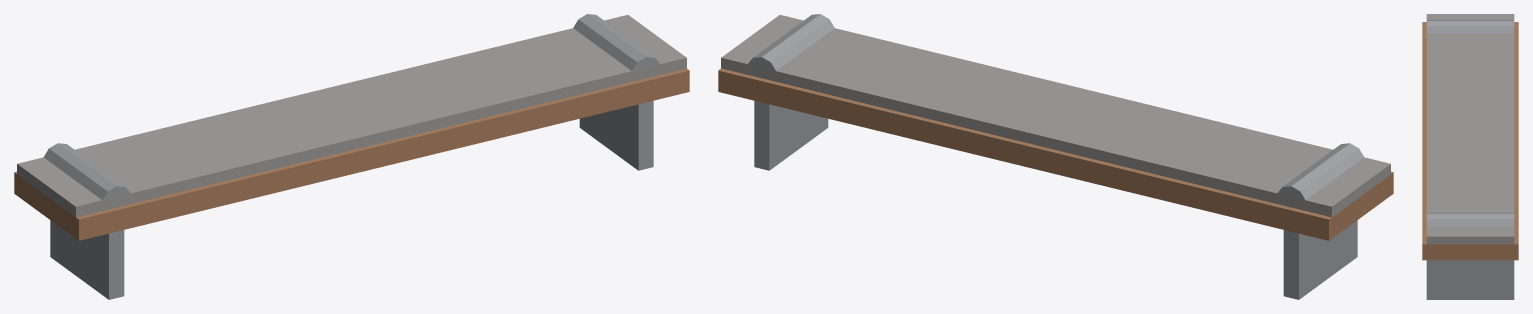
The model's file is conveyor_6m.glb.
3 renders of one model, left to right at view 1: azimuth 30°, elevation 25°; view 2: azimuth 150°, elevation 25°; view 3: azimuth 270°, elevation 25°, orthographic. The views are drawn at different scales.
Visible parts, largest first — view 1: conveyor_6m; view 2: conveyor_6m; view 3: conveyor_6m.
Boxes of the visible parts, box(x1,y1,x2,y2) form: conveyor_6m: box(14, 14, 689, 299); conveyor_6m: box(718, 14, 1393, 299); conveyor_6m: box(1422, 14, 1518, 299).
Size of what is drawn, in the model's own units: 6 by 1.05 by 1.1.
